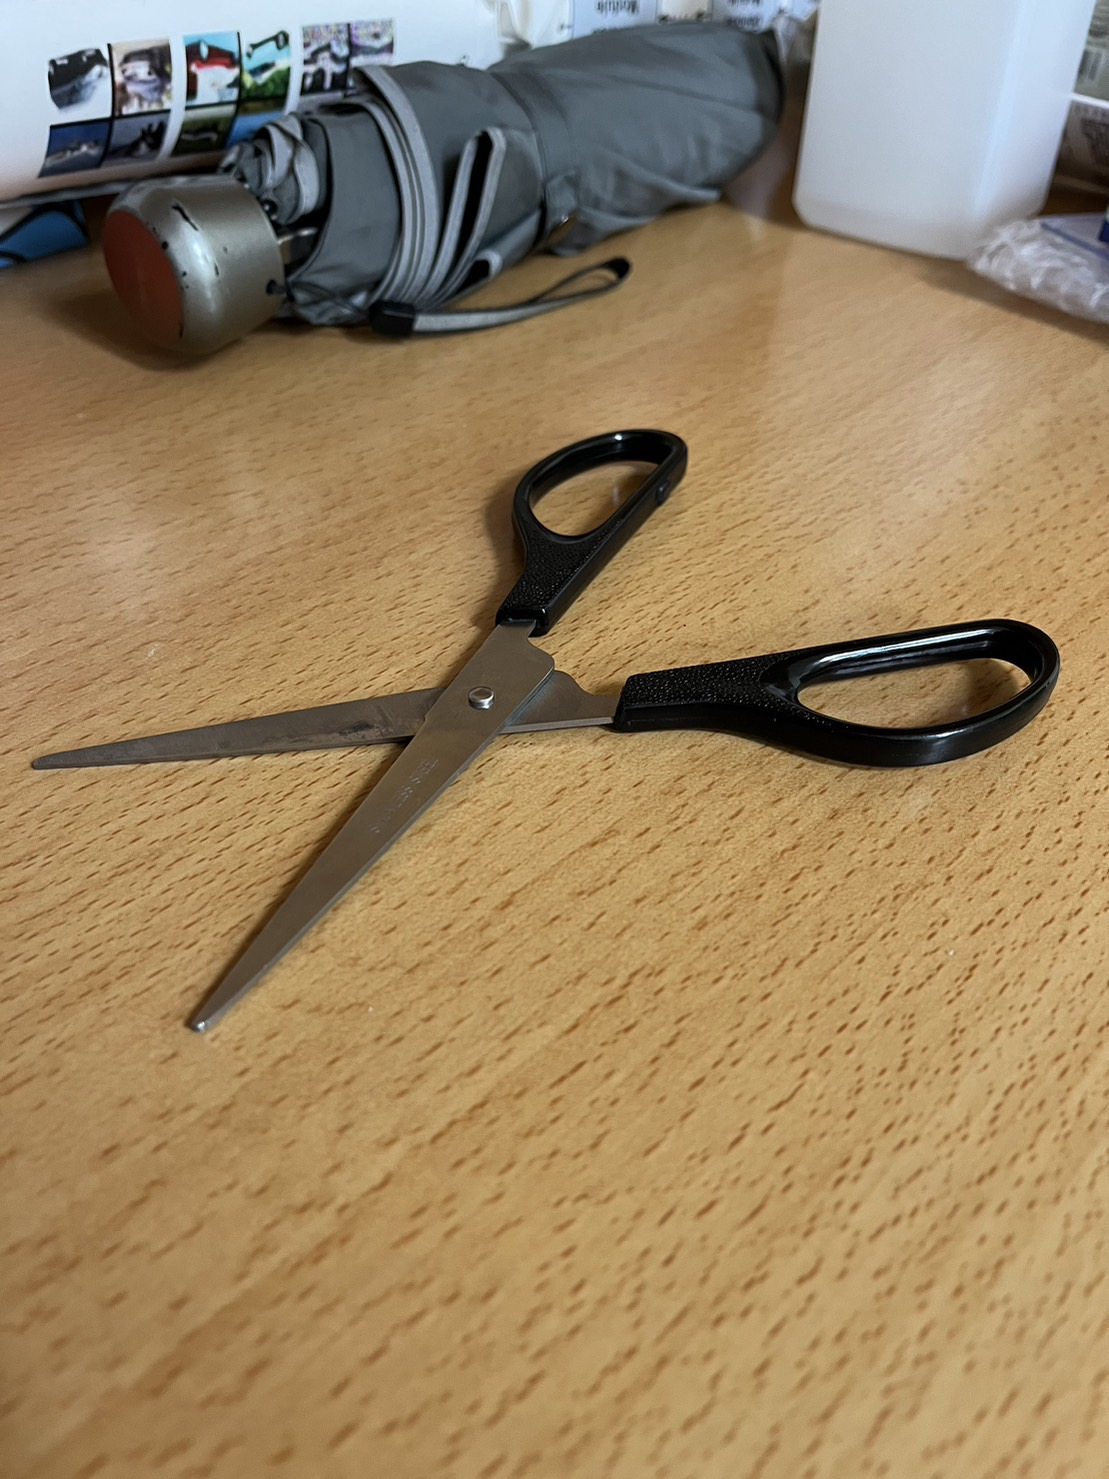scissor: (23, 385, 1076, 1091)
